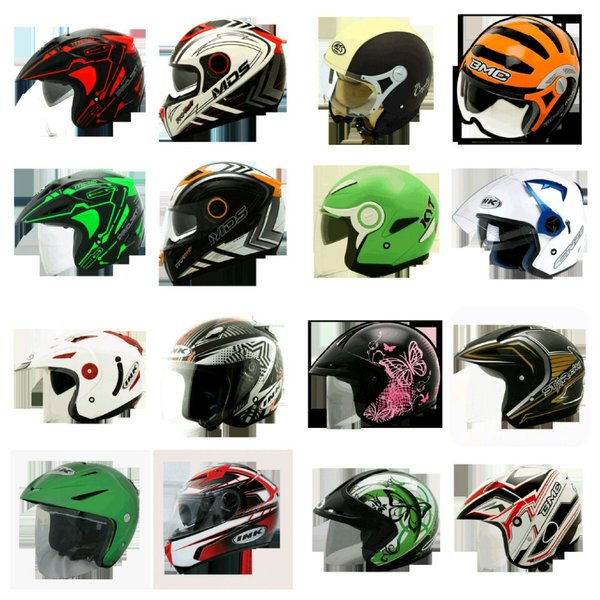with_helmet: (158, 19, 288, 143), (160, 160, 285, 284), (451, 168, 589, 280), (456, 17, 581, 139), (318, 16, 435, 146), (13, 456, 143, 573), (15, 24, 148, 138), (454, 326, 588, 432), (162, 319, 287, 432), (315, 166, 441, 278), (14, 169, 145, 275), (311, 323, 444, 426), (161, 457, 281, 571), (457, 464, 584, 571), (315, 468, 440, 571), (12, 330, 148, 423)
